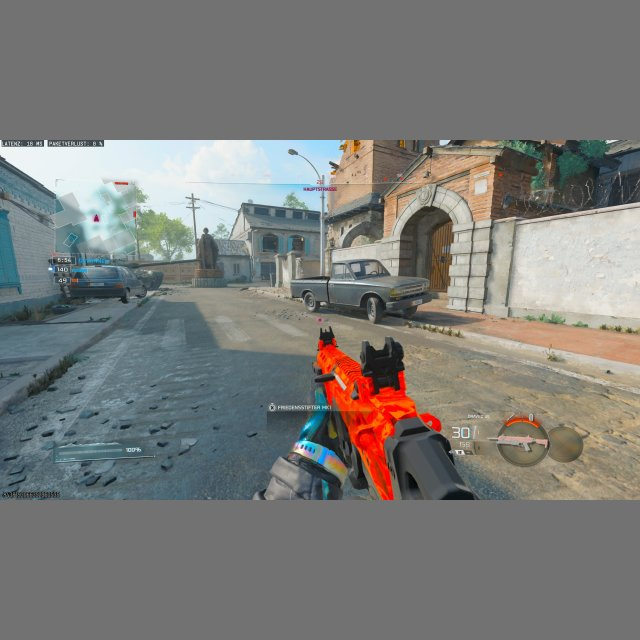player: (59, 277, 72, 301)
